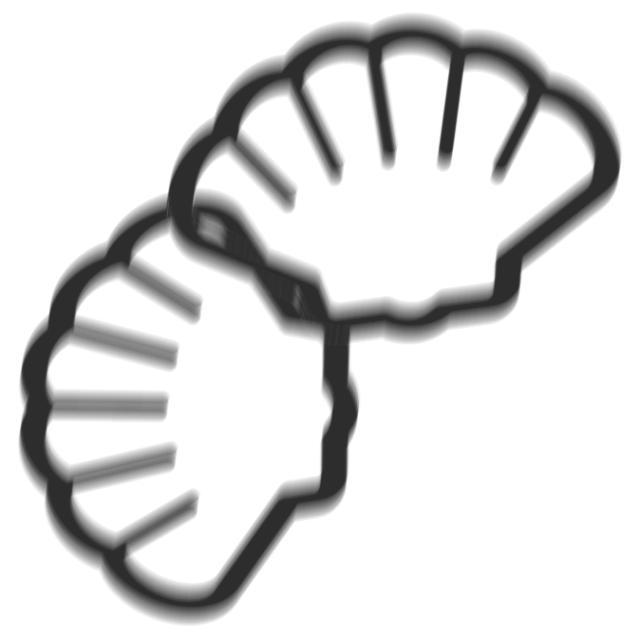shell: (154, 6, 630, 354), (12, 185, 371, 634)
